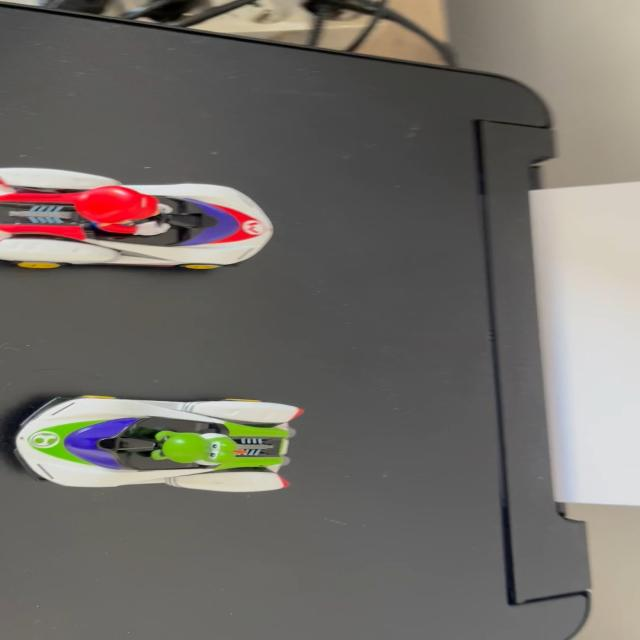mario: (0, 167, 295, 283)
yoshi: (1, 385, 325, 502)
